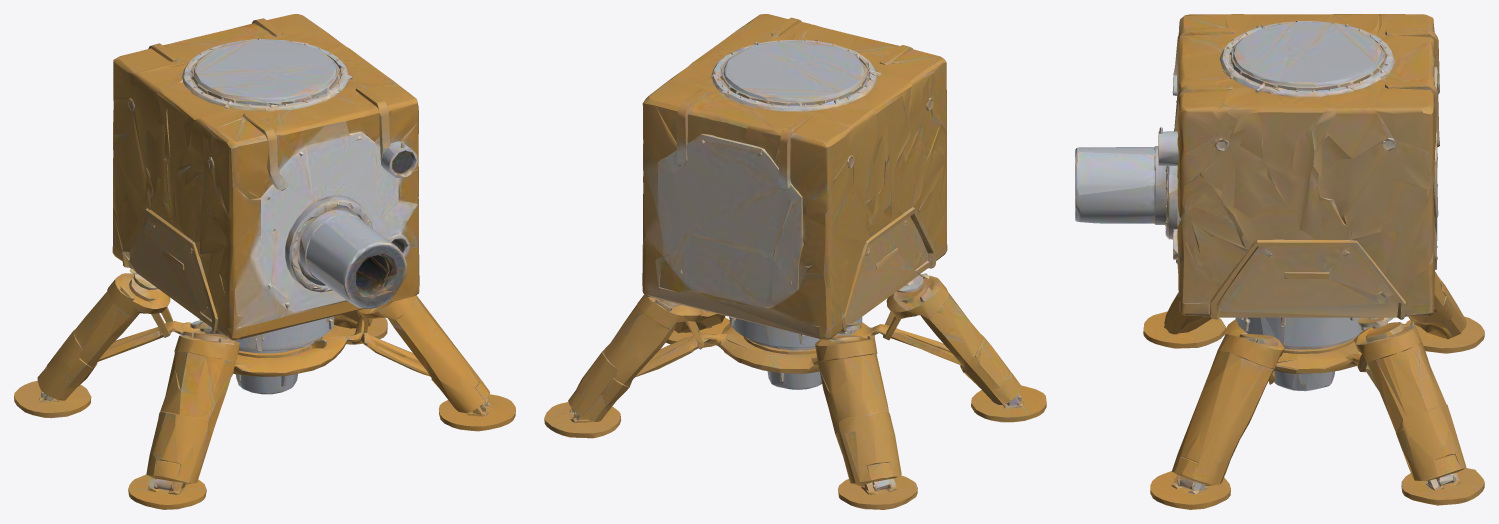
Rendered from lander.glb.
3 renders of one model, left to right at view 1: azimuth 30°, elevation 25°; view 2: azimuth 150°, elevation 25°; view 3: azimuth 270°, elevation 25°, orthographic. The views are drawn at different scales.
Visible parts, largest first — view 1: mesh_node; view 2: mesh_node; view 3: mesh_node.
Boxes of the visible parts, x1=… form: mesh_node: x1=14, y1=14, x2=515, y2=509; mesh_node: x1=544, y1=14, x2=1046, y2=509; mesh_node: x1=1075, y1=14, x2=1484, y2=509.
Size of the model in its own units: 1.9 by 1.65 by 1.69.
Materials: 1 (1 with a texture image).
